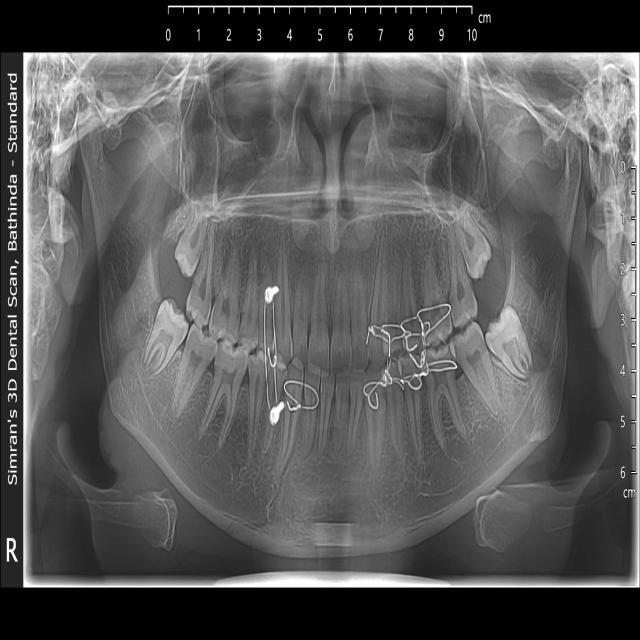impacted tooth: (484, 305, 534, 377), (174, 214, 206, 267)
